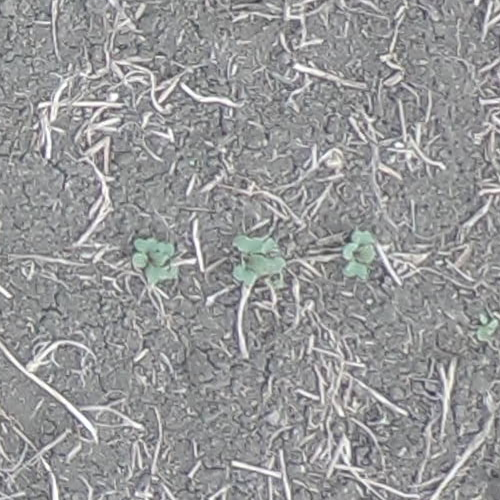clumped: (233, 237, 288, 285), (132, 240, 174, 281)
isolated: (341, 229, 377, 283), (477, 317, 495, 343)
